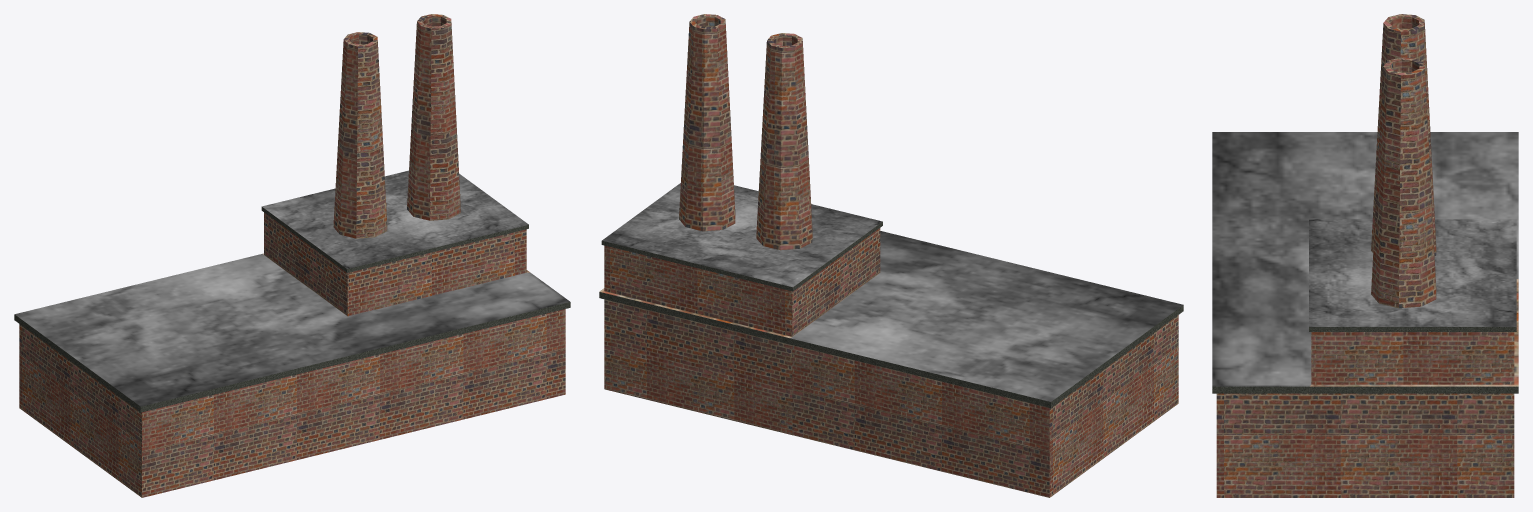
The model's file is FACTORY_02.fbx.
The picture shows the model from 3 angles, left to right: view 1: azimuth 30°, elevation 25°; view 2: azimuth 150°, elevation 25°; view 3: azimuth 270°, elevation 25°; orthographic projection. The views are drawn at different scales.
Parts seen in each view (by area): view 1: FACTORY_02; view 2: FACTORY_02; view 3: FACTORY_02.
Part boxes in pixels (<box>): FACTORY_02: <box>14,14,570,497</box>; FACTORY_02: <box>599,14,1183,497</box>; FACTORY_02: <box>1212,14,1518,497</box>.
Bounding box in the file's own units: 4983 × 3651 × 2536.
